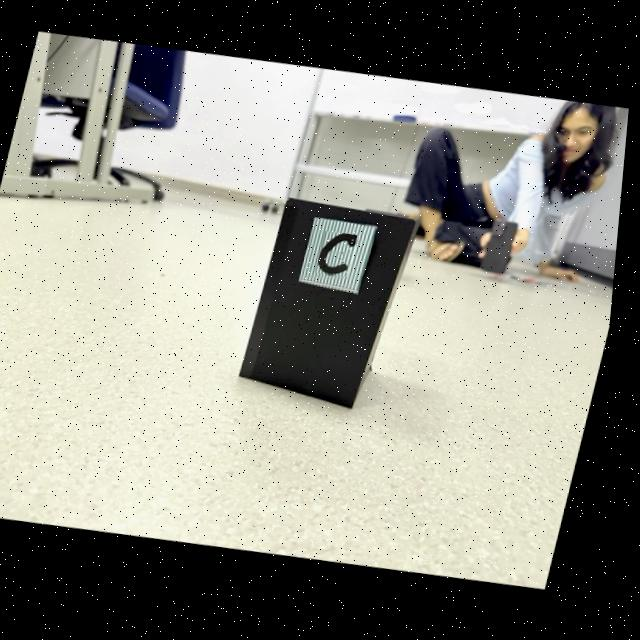C: (324, 237, 363, 277)
